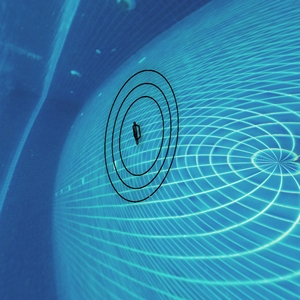submarine: (128, 120, 141, 139)
